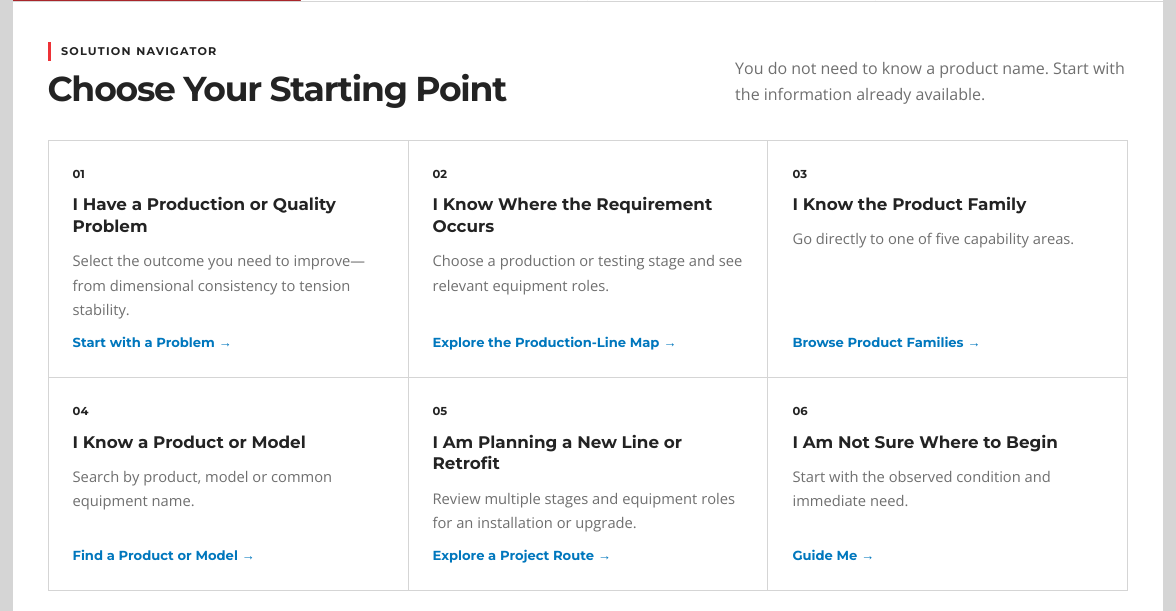
capability explorer interactions › groups a new-line or retrofit review by the selected project stages
The width and height of the screenshot is (1176, 611).
(page scrolled)
Click the button "I Am Planning a New Line or Retrofit": [557, 442] box [408,378,768,590]
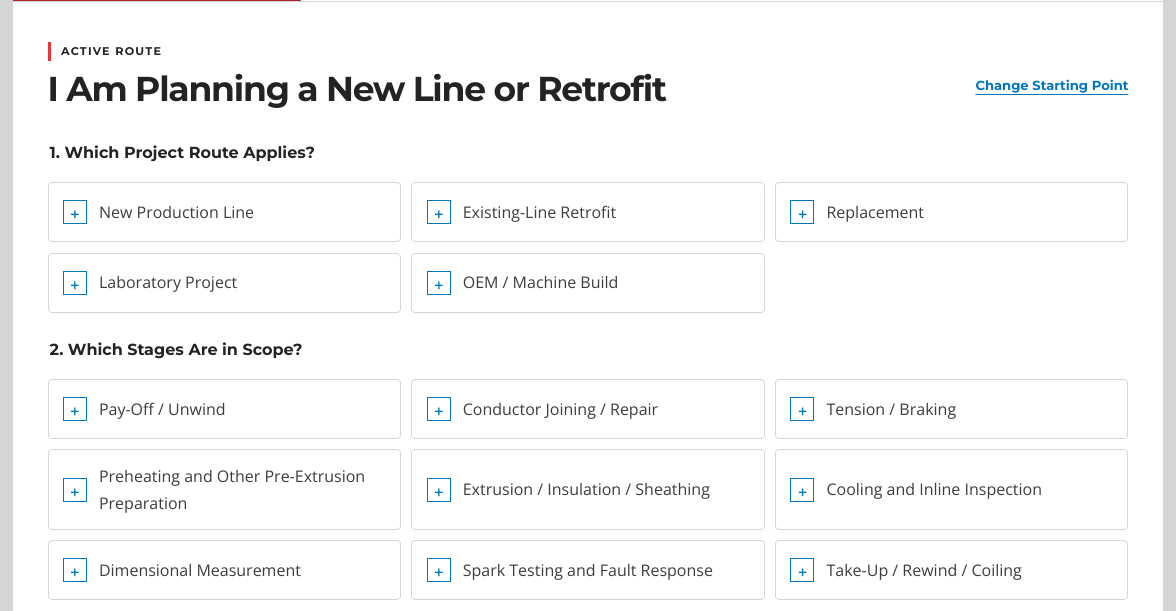
Click the button "+ New Production Line": [224, 212] box [48,182,401,242]
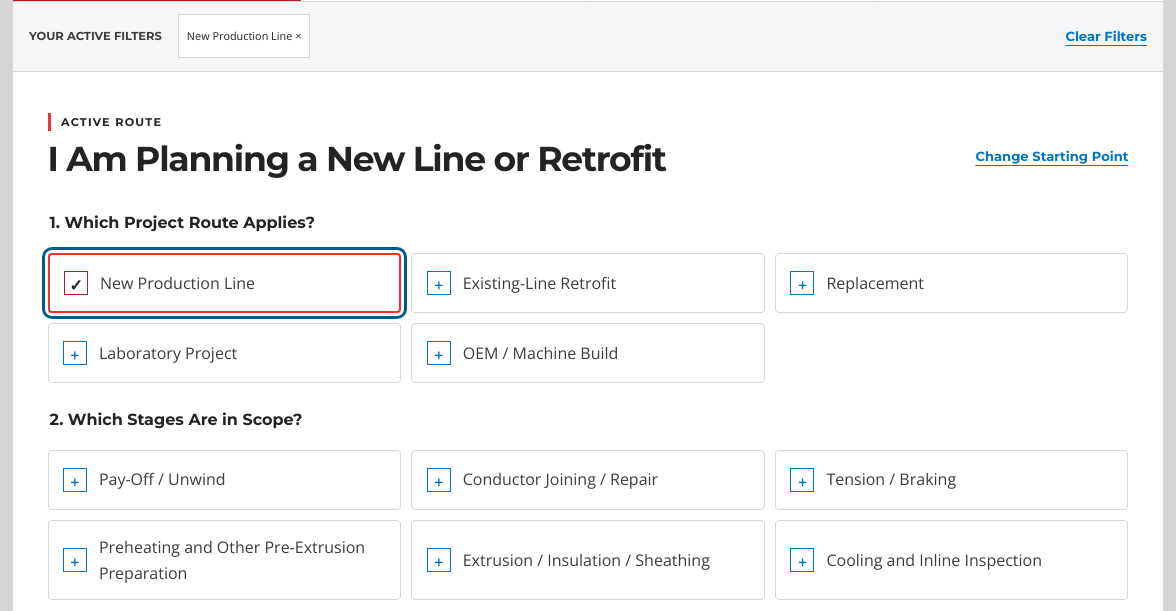
Click the button "+ Preheating and Other Pre-Extrusion Preparation": [224, 560] box [48,520,401,600]
(page scrolled)
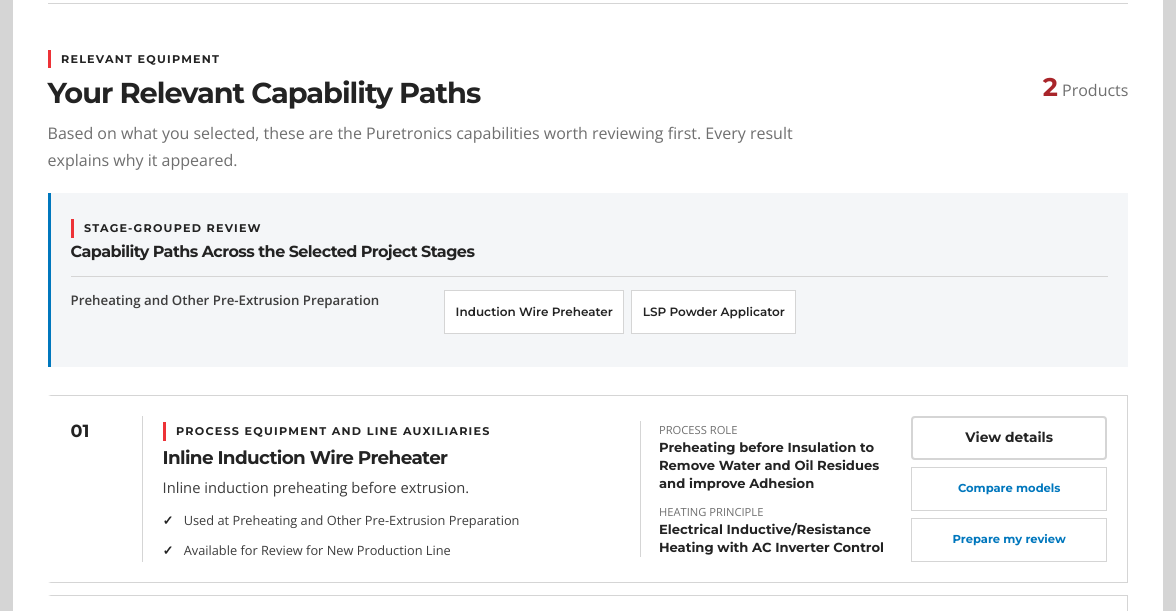
Expected: the heading "Capability Paths Across the Selected Project Stages" is shown, [70,242,474,261]
Expected: the heading "Preheating and Other Pre-Extrusion Preparation" is shown, [70,291,379,309]
